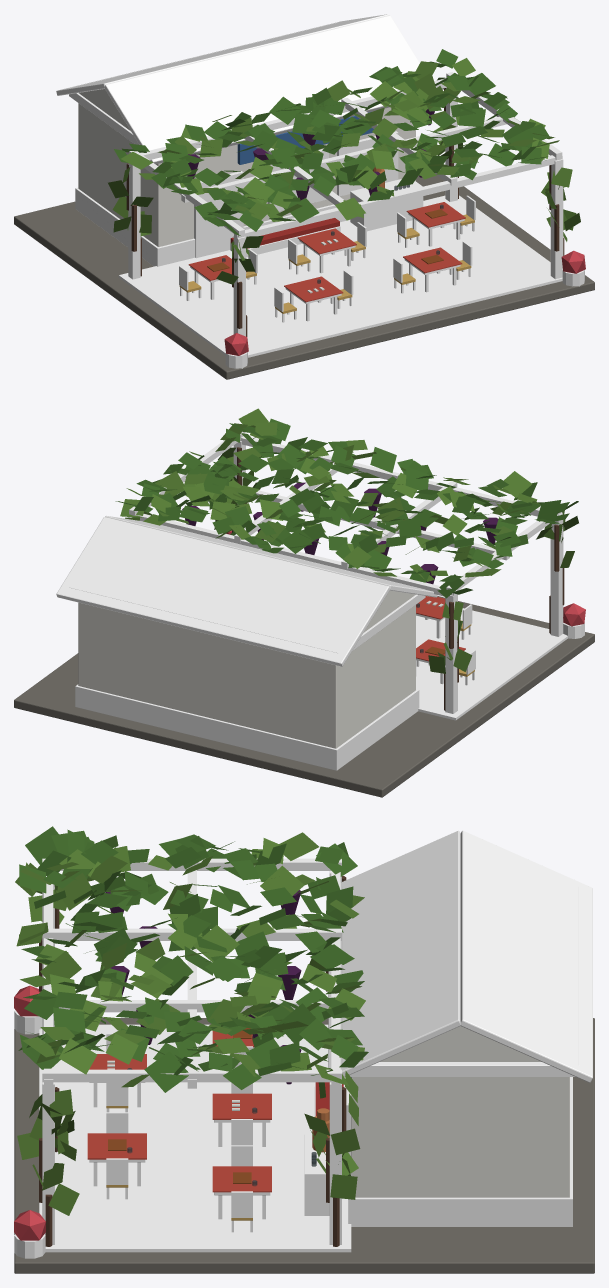
File: kahvehane.glb
The picture shows the model from 3 angles, top to bottom: view 1: azimuth 30°, elevation 25°; view 2: azimuth 150°, elevation 25°; view 3: azimuth 270°, elevation 25°; orthographic projection. The views are drawn at different scales.
Parts seen in each view (by area): view 1: Alin; view 2: Alin; view 3: Alin.
Boxes of the visible parts, x1=… form: Alin: x1=14, y1=14, x2=594, y2=379; Alin: x1=14, y1=408, x2=594, y2=797; Alin: x1=14, y1=826, x2=594, y2=1273.
Size of the model in its own units: 1 by 0.4298 by 1.
